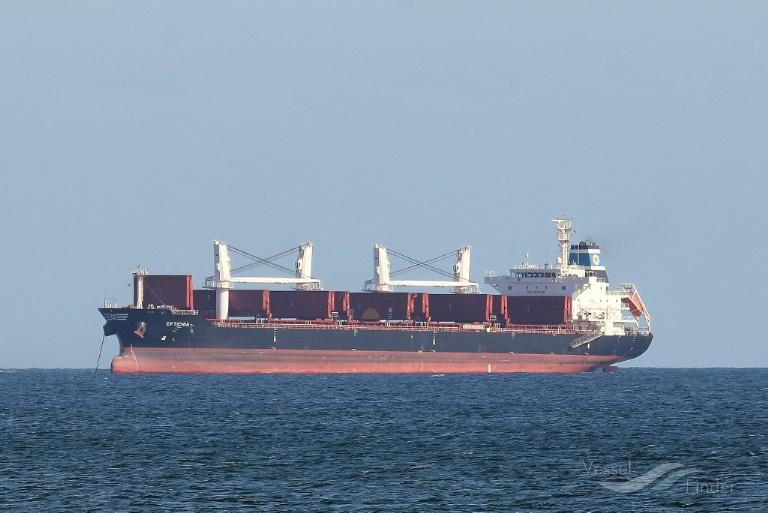OCR: (160, 316, 195, 331)
